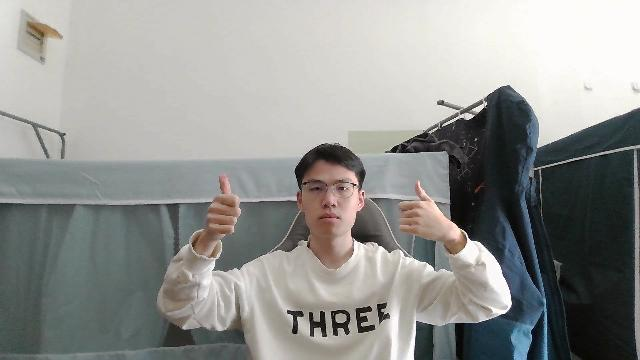good: (400, 178, 451, 244), (206, 171, 242, 238)
